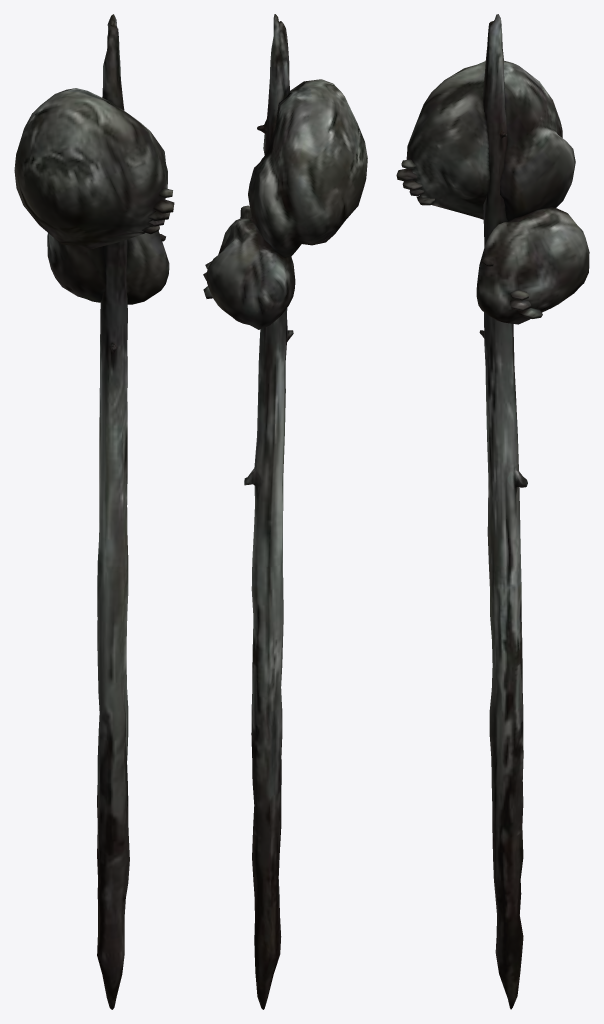
File: weapon-fetid-club.glb
3 views of the same model, side by side, from view 1: azimuth 30°, elevation 25°; view 2: azimuth 150°, elevation 25°; view 3: azimuth 270°, elevation 25° (orthographic).
Parts seen in each view (by area): view 1: log_MDL_q; view 2: log_MDL_q; view 3: log_MDL_q.
Part boxes in pixels (left/top/right/bottom): log_MDL_q: left=14, top=14, right=174, bottom=1009; log_MDL_q: left=203, top=14, right=367, bottom=1009; log_MDL_q: left=396, top=14, right=589, bottom=1009.
Bounding box in the file's own units: 0.4572 × 3.02 × 0.532.
Materials: 1 (1 with a texture image).
